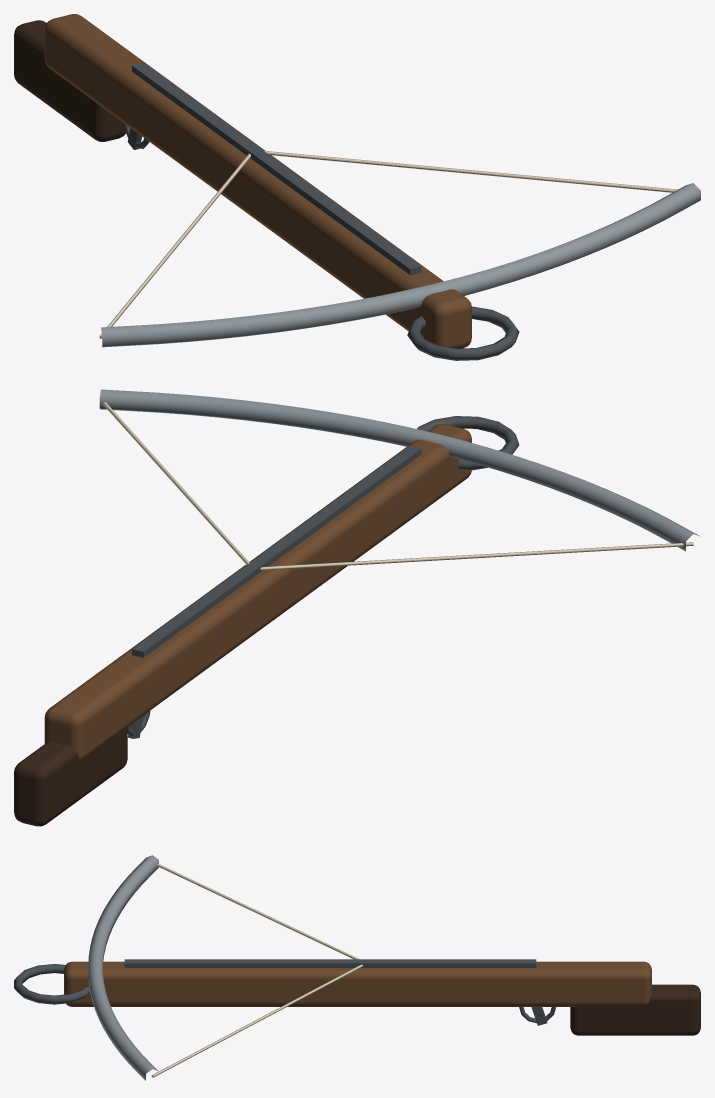
The model's file is light-crossbow.glb.
The picture shows the model from 3 angles, top to bottom: view 1: azimuth 30°, elevation 25°; view 2: azimuth 150°, elevation 25°; view 3: azimuth 270°, elevation 25°; orthographic projection. The views are drawn at different scales.
Visible parts, largest first — view 1: light-crossbow-stock, light-crossbow-prod, light-crossbow-rail, light-crossbow-grip, light-crossbow-stirrup, light-crossbow-string-return, light-crossbow-string; view 2: light-crossbow-stock, light-crossbow-prod, light-crossbow-grip, light-crossbow-rail, light-crossbow-string, light-crossbow-stirrup, light-crossbow-string-return; view 3: light-crossbow-stock, light-crossbow-grip, light-crossbow-prod, light-crossbow-rail, light-crossbow-stirrup, light-crossbow-string-return, light-crossbow-string.
Boxes of the visible parts, left/top/right/bottom form: light-crossbow-stock: left=44, top=14, right=471, bottom=348; light-crossbow-prod: left=101, top=183, right=700, bottom=347; light-crossbow-rail: left=132, top=63, right=421, bottom=275; light-crossbow-grip: left=14, top=20, right=125, bottom=141; light-crossbow-stirrup: left=407, top=306, right=519, bottom=360; light-crossbow-string-return: left=264, top=150, right=677, bottom=192; light-crossbow-string: left=99, top=153, right=250, bottom=338; light-crossbow-stock: left=44, top=424, right=471, bottom=760; light-crossbow-prod: left=99, top=389, right=700, bottom=551; light-crossbow-grip: left=14, top=727, right=127, bottom=826; light-crossbow-rail: left=132, top=445, right=421, bottom=657; light-crossbow-string: left=260, top=542, right=693, bottom=570; light-crossbow-stirrup: left=417, top=416, right=519, bottom=470; light-crossbow-string-return: left=103, top=402, right=249, bottom=564; light-crossbow-stock: left=64, top=961, right=651, bottom=1006; light-crossbow-grip: left=570, top=984, right=700, bottom=1035; light-crossbow-prod: left=88, top=855, right=158, bottom=1080; light-crossbow-rail: left=124, top=959, right=536, bottom=967; light-crossbow-stirrup: left=14, top=964, right=90, bottom=1004; light-crossbow-string-return: left=151, top=964, right=362, bottom=1077; light-crossbow-string: left=157, top=863, right=359, bottom=959.
Size of the model in its own units: 0.4873 by 0.0747 by 0.6544.
